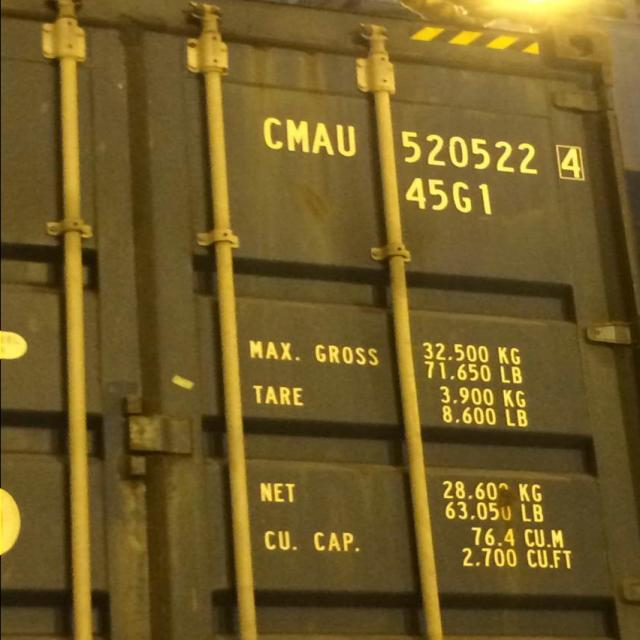rust: (112, 405, 206, 632), (298, 166, 338, 249), (249, 39, 278, 117), (302, 48, 333, 116)
